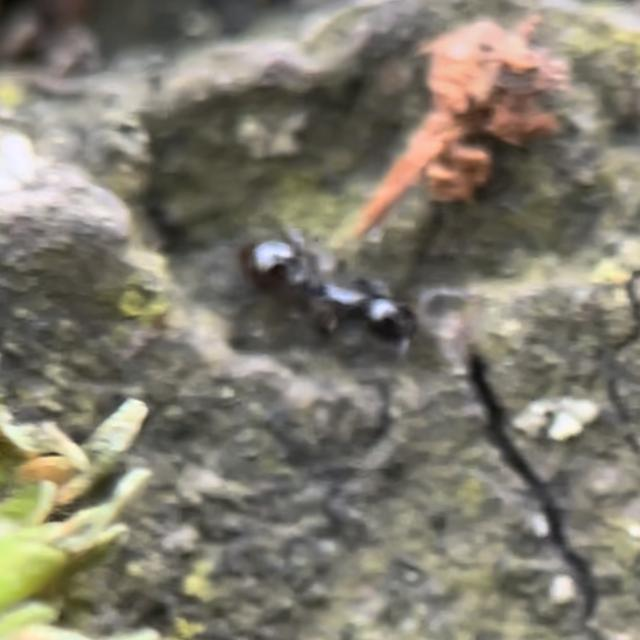Temnothorax: (220, 200, 472, 382)
